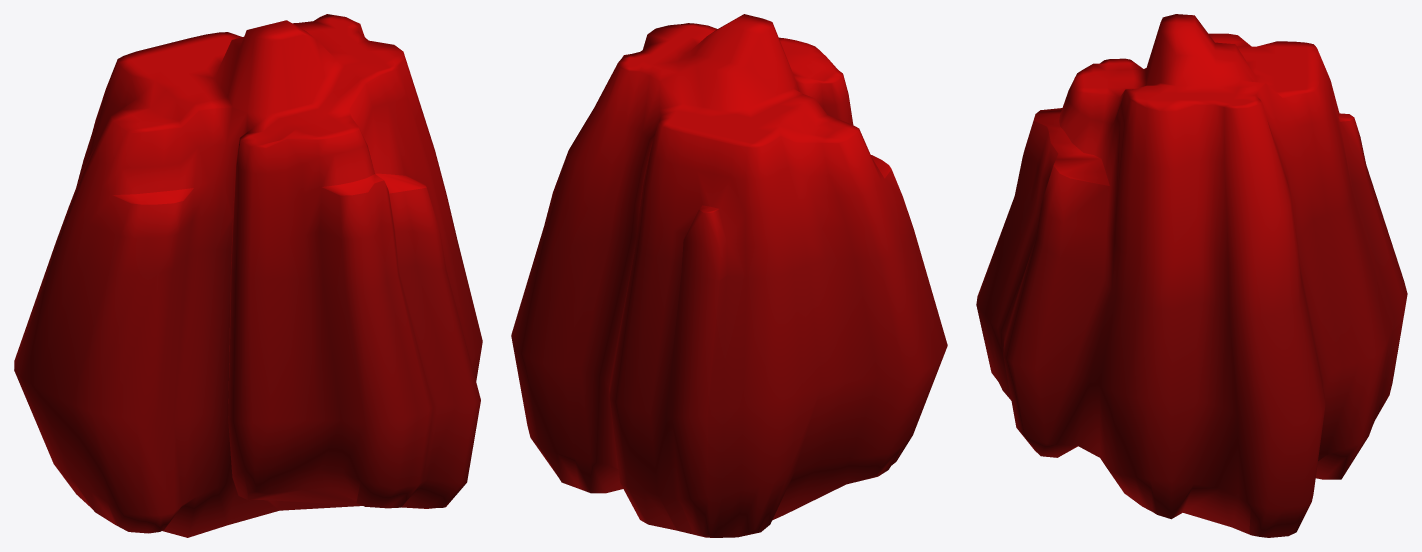
Rendered from geology-landforms-iceberg_v3.fbx.
The picture shows the model from 3 angles, left to right: view 1: azimuth 30°, elevation 25°; view 2: azimuth 150°, elevation 25°; view 3: azimuth 270°, elevation 25°; orthographic projection. The views are drawn at different scales.
Parts seen in each view (by area): view 1: Iceberg_v3; view 2: Iceberg_v3; view 3: Iceberg_v3.
Part boxes in pixels (left/top/right/bottom): Iceberg_v3: left=14, top=14, right=482, bottom=537; Iceberg_v3: left=511, top=14, right=947, bottom=537; Iceberg_v3: left=976, top=14, right=1407, bottom=537.
Bounding box in the file's own units: 7.27 × 8.06 × 6.94.
